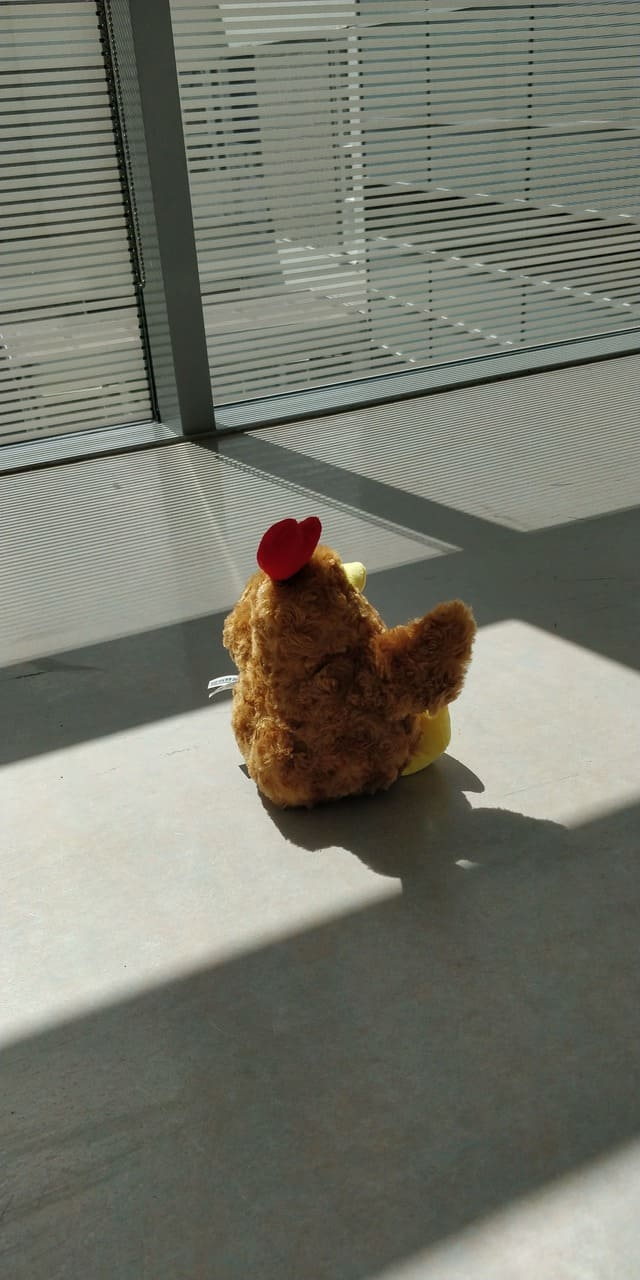fakeChicken: (222, 516, 477, 808)
